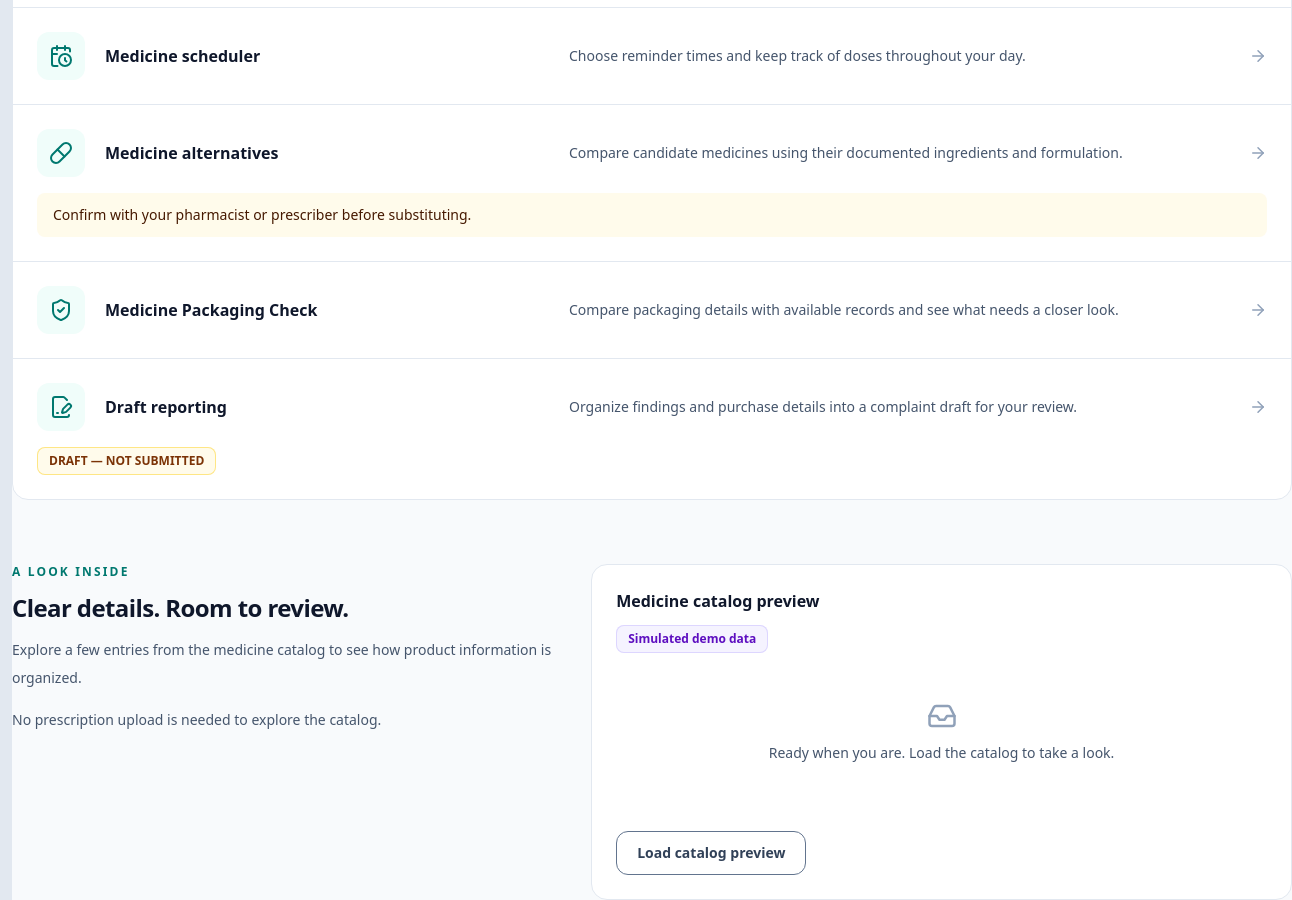
Scenario: announces failure and retries while preserving the account entry link
(page scrolled)
Click the button "Load catalog preview" at (711, 853), box [616,831,806,875]
(page scrolled)
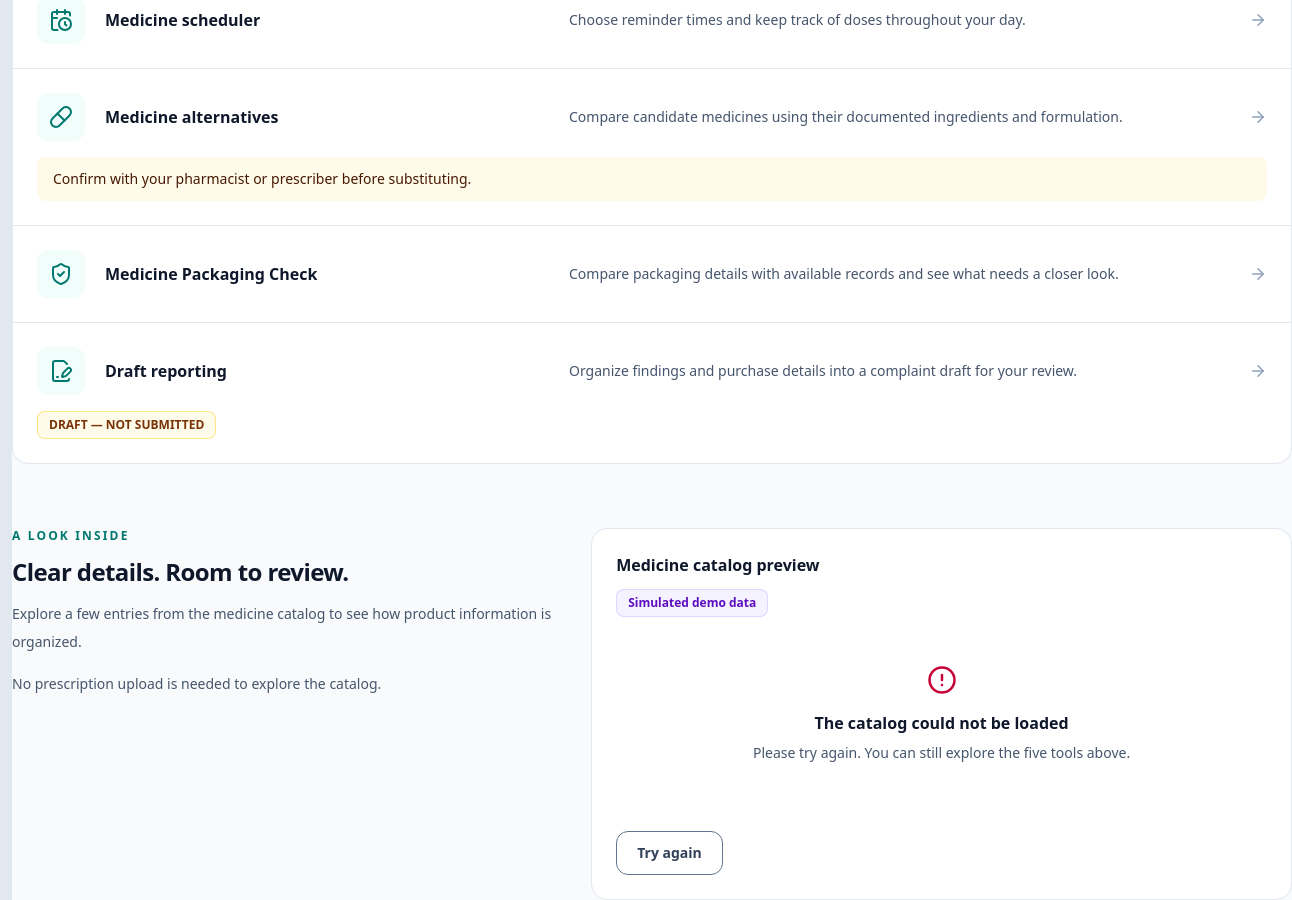
Now the message shows "The catalog could not be loaded", box [814,712,1069,734]
Click the button "Try again" at (669, 853), box [616,831,723,875]
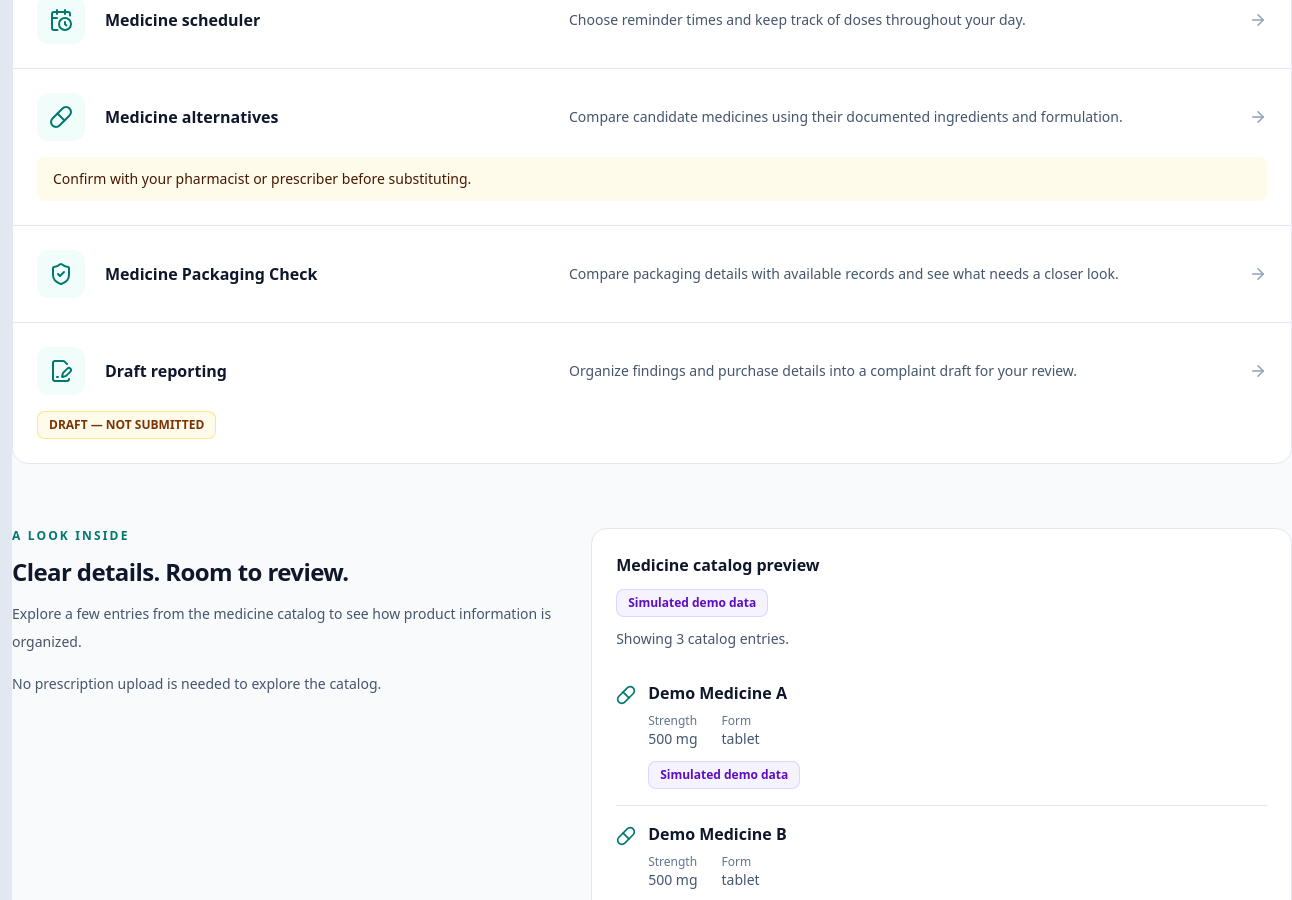
Now the heading "Demo Medicine A" is shown, box [648,682,787,704]
